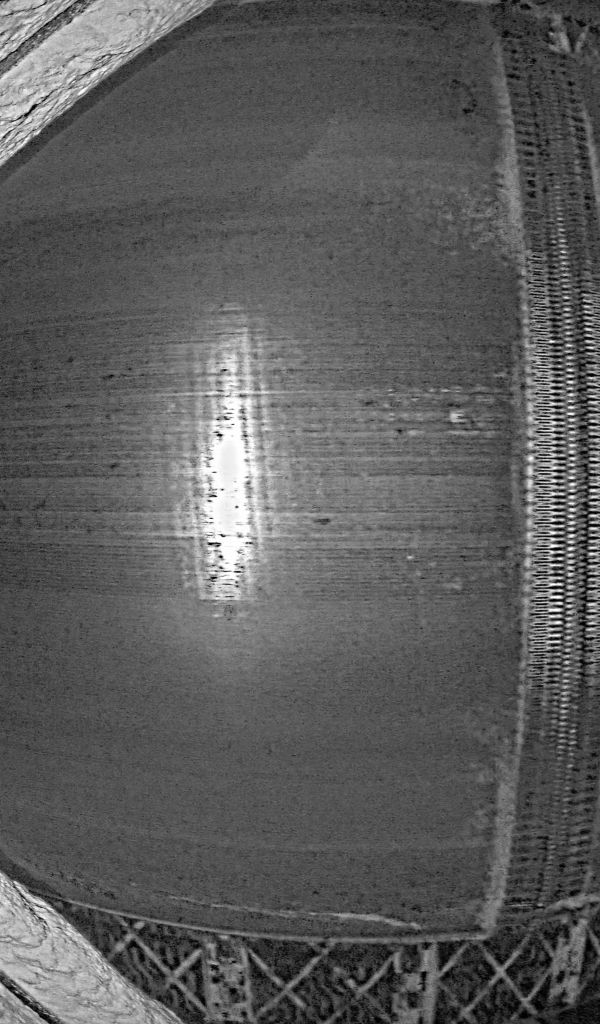splice: (452, 31, 600, 940)
